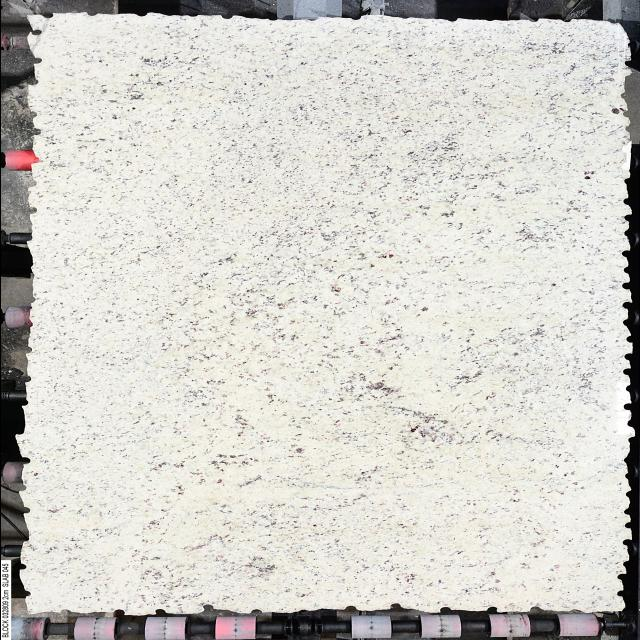chapa: (15, 12, 633, 616)
veio: (26, 28, 44, 38), (36, 11, 56, 20), (386, 602, 404, 612), (436, 606, 452, 616), (108, 608, 128, 616), (25, 78, 40, 88), (619, 281, 634, 291), (20, 588, 34, 598), (620, 300, 634, 310), (200, 604, 215, 613), (16, 561, 28, 572), (19, 506, 32, 516), (483, 606, 499, 614), (151, 608, 167, 616), (18, 456, 30, 466), (620, 366, 632, 376), (620, 538, 632, 548), (622, 402, 632, 412), (30, 57, 42, 65), (622, 352, 632, 360)
